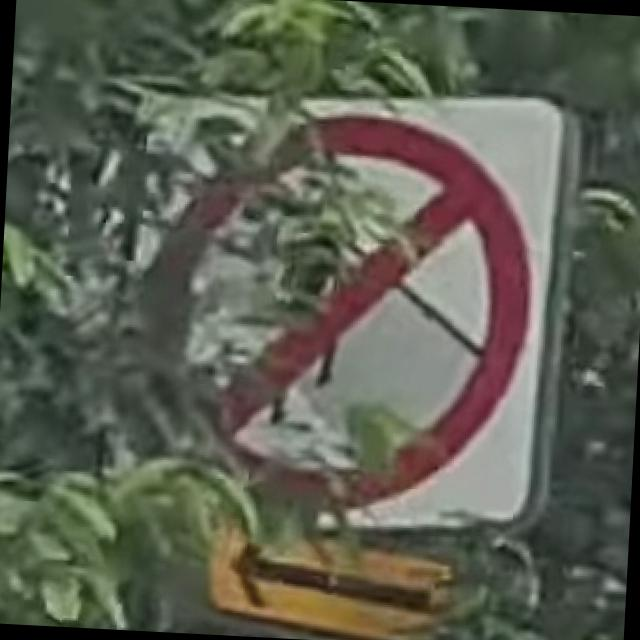nojaywalking_sign: (180, 96, 550, 528)
